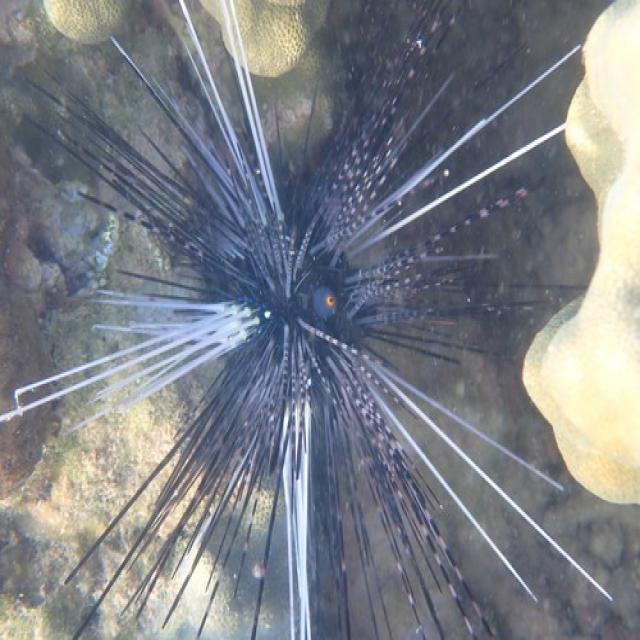Urchin: (8, 9, 613, 636)
